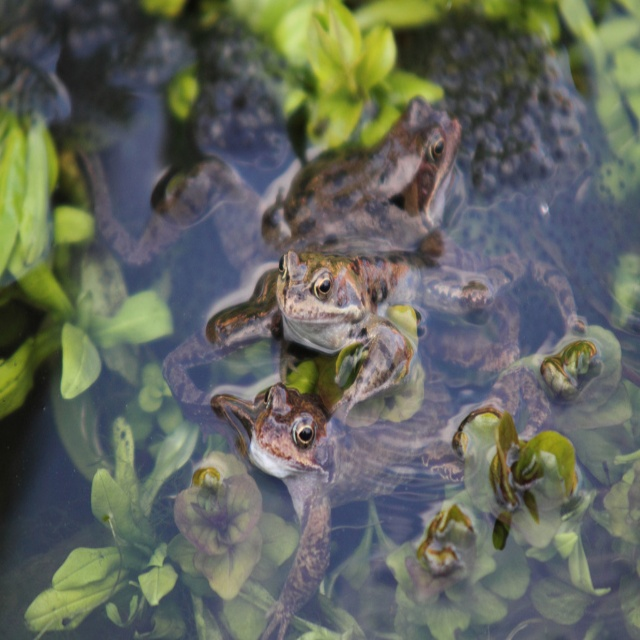Frog: (78, 95, 586, 640)
